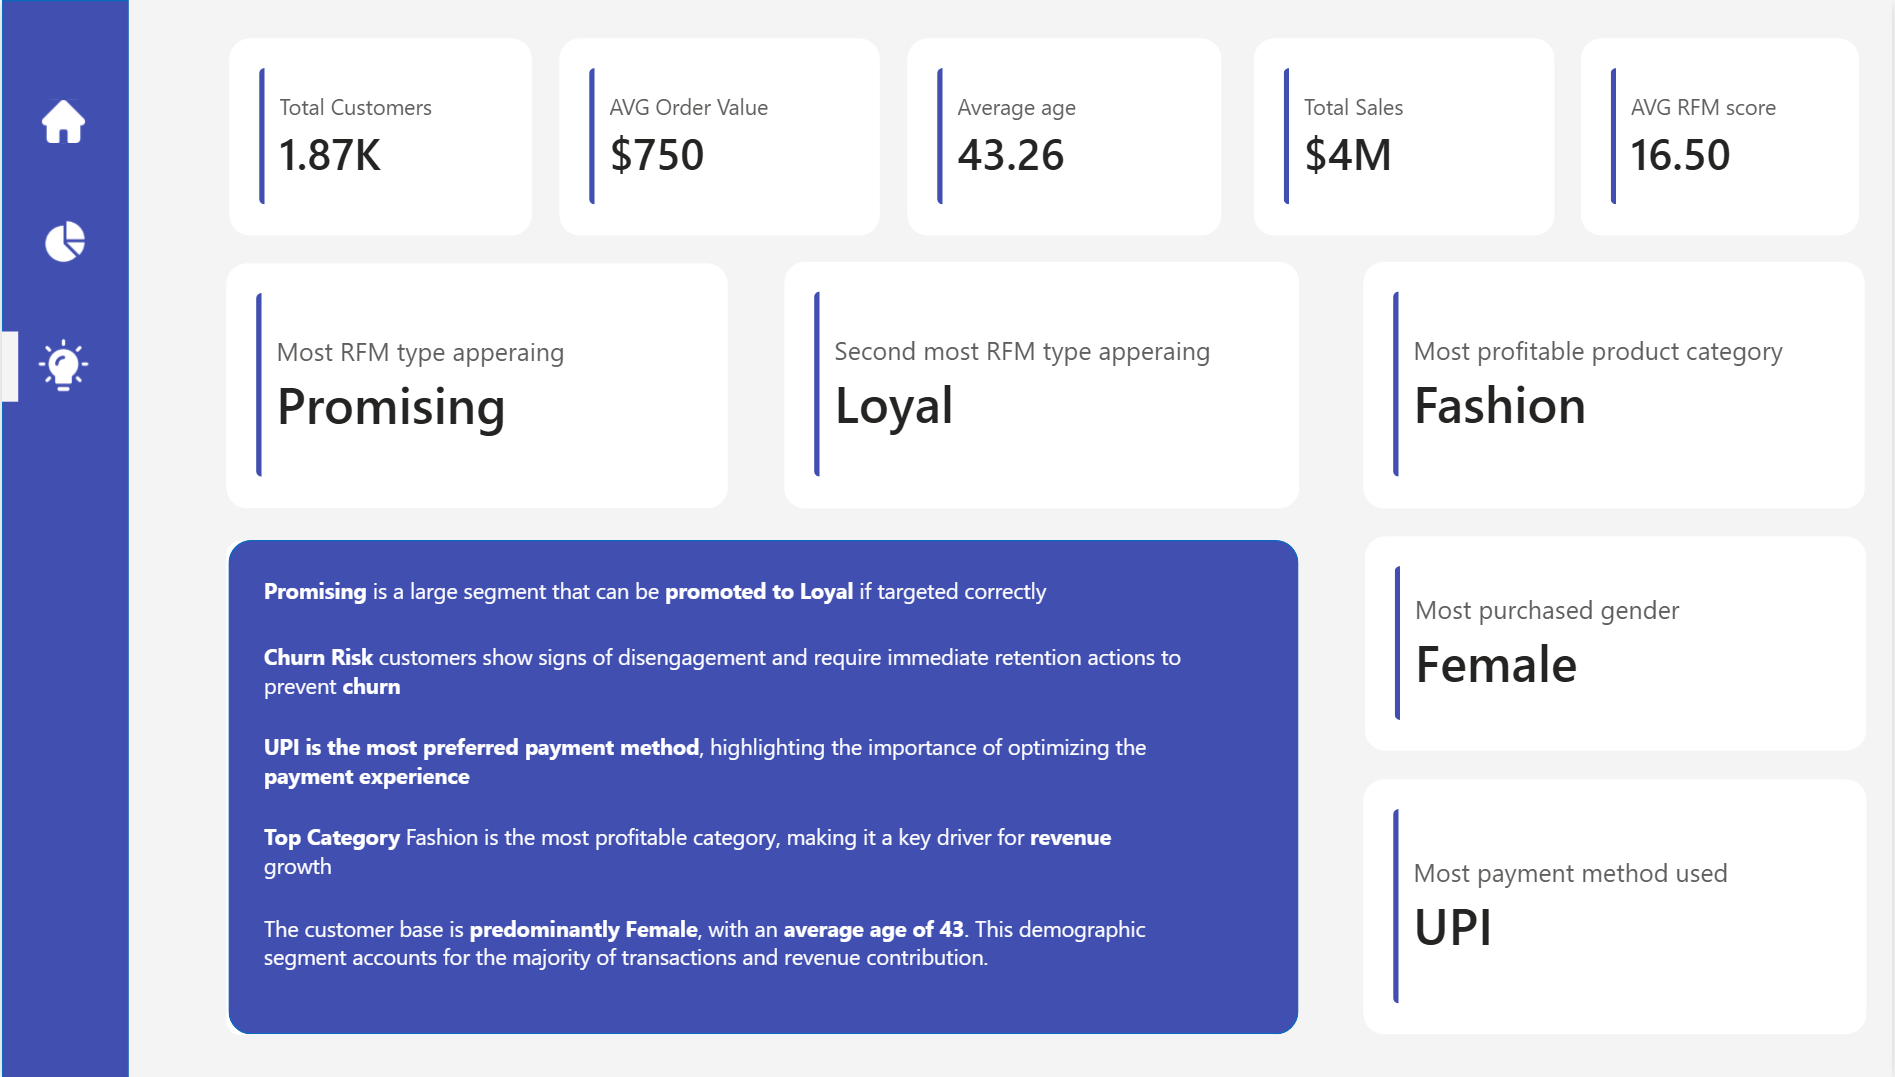

Layout of this report page (visuals, bound fields, positions):
{"tool":"powerbi","page":{"name":"Insights","canvas":[1400,800],"ordinal":2},"visuals":[{"type":"shape","box":[0,0,93.8,800],"z":0},{"type":"actionButton","box":[26.7,152.2,40,53.3],"z":1000},{"type":"actionButton","box":[25.6,70,41.1,40],"z":2000},{"type":"actionButton","box":[20,235.6,51.1,70],"z":3000},{"type":"cardVisual","title":"AVG Order Value","fields":{"Data":["Avg(general_seg.order_value_usd)"]},"box":[411.7,27.6,238.8,147.5],"z":4000},{"type":"cardVisual","fields":{"Data":["Count(general_seg.customer_id)"]},"box":[167.9,27.6,225,147.5],"z":5000},{"type":"cardVisual","title":"AVG Order Value","fields":{"Data":["Sum(general_seg.order_value_usd)"]},"box":[926.7,27.6,223.8,147.5],"z":6000},{"type":"cardVisual","title":"AVG Order Value","fields":{"Data":["Avg(general_seg.customer_age)"]},"box":[670.4,27.6,233.8,147.5],"z":7000},{"type":"cardVisual","title":"AVG Order Value","fields":{"Data":["Avg(rfm_seg.rfm_total_score)"]},"box":[1169.2,27.6,207.5,147.5],"z":8000},{"type":"cardVisual","title":"AVG Order Value","fields":{"Data":["Min(general_seg.product_category)"]},"box":[1007.5,193.8,372.5,183.8],"z":9000},{"type":"cardVisual","title":"AVG Order Value","fields":{"Data":["Min(rfm_seg.rfm_seg)"]},"box":[165.7,194.3,372.9,182.9],"z":10000},{"type":"lineChart","fields":{"Category":["rfm_seg.rfm_total_score"],"Y":["CountNonNull(rfm_seg.customer_id)"]},"box":[165.7,400,784.3,367.1],"z":11000},{"type":"cardVisual","title":"AVG Order Value","fields":{"Data":["Min(rfm_seg.rfm_seg)"]},"box":[578.8,193.8,382.5,183.8],"z":12000},{"type":"cardVisual","title":"AVG Order Value","fields":{"Data":["Min(general_seg.customer_gender)"]},"box":[1008.8,396.2,372.5,160],"z":13000},{"type":"cardVisual","title":"AVG Order Value","fields":{"Data":["Min(general_seg.payment_method)"]},"box":[1007.5,576.2,373.8,190],"z":14000},{"type":"shape","box":[167.5,400,792.5,366.2],"z":15000},{"type":"textbox","box":[188.8,421.2,632.5,41.2],"z":16000},{"type":"textbox","box":[188.9,470,714.4,64.4],"z":17000},{"type":"textbox","box":[188.9,536.7,686.7,70],"z":18000},{"type":"textbox","box":[188.9,603.3,686.7,57.8],"z":19000},{"type":"textbox","box":[188.9,671.1,687.8,77.8],"z":20000},{"type":"shape","box":[0,245.6,12.2,52.2],"z":21000}]}

Visuals, with their boxes on the page's 1400x800 design canvas (x1, y1, x2, y2). These are canvas units, not pixel positions in the 1895x1077 screenshot, which may show the page scaled, cropped or inside an application window:
shape: pyautogui.locateOnScreen(0, 0, 94, 800)
actionButton: pyautogui.locateOnScreen(27, 152, 67, 206)
actionButton: pyautogui.locateOnScreen(26, 70, 67, 110)
actionButton: pyautogui.locateOnScreen(20, 236, 71, 306)
"AVG Order Value" cardVisual: pyautogui.locateOnScreen(412, 28, 650, 175)
cardVisual - Count(general_seg.customer_id): pyautogui.locateOnScreen(168, 28, 393, 175)
"AVG Order Value" cardVisual: pyautogui.locateOnScreen(927, 28, 1150, 175)
"AVG Order Value" cardVisual: pyautogui.locateOnScreen(670, 28, 904, 175)
"AVG Order Value" cardVisual: pyautogui.locateOnScreen(1169, 28, 1377, 175)
"AVG Order Value" cardVisual: pyautogui.locateOnScreen(1008, 194, 1380, 378)
"AVG Order Value" cardVisual: pyautogui.locateOnScreen(166, 194, 539, 377)
lineChart - rfm_seg.rfm_total_score x CountNonNull(rfm_seg.customer_id): pyautogui.locateOnScreen(166, 400, 950, 767)
"AVG Order Value" cardVisual: pyautogui.locateOnScreen(579, 194, 961, 378)
"AVG Order Value" cardVisual: pyautogui.locateOnScreen(1009, 396, 1381, 556)
"AVG Order Value" cardVisual: pyautogui.locateOnScreen(1008, 576, 1381, 766)
shape: pyautogui.locateOnScreen(168, 400, 960, 766)
textbox: pyautogui.locateOnScreen(189, 421, 821, 462)
textbox: pyautogui.locateOnScreen(189, 470, 903, 534)
textbox: pyautogui.locateOnScreen(189, 537, 876, 607)
textbox: pyautogui.locateOnScreen(189, 603, 876, 661)
textbox: pyautogui.locateOnScreen(189, 671, 877, 749)
shape: pyautogui.locateOnScreen(0, 246, 12, 298)
